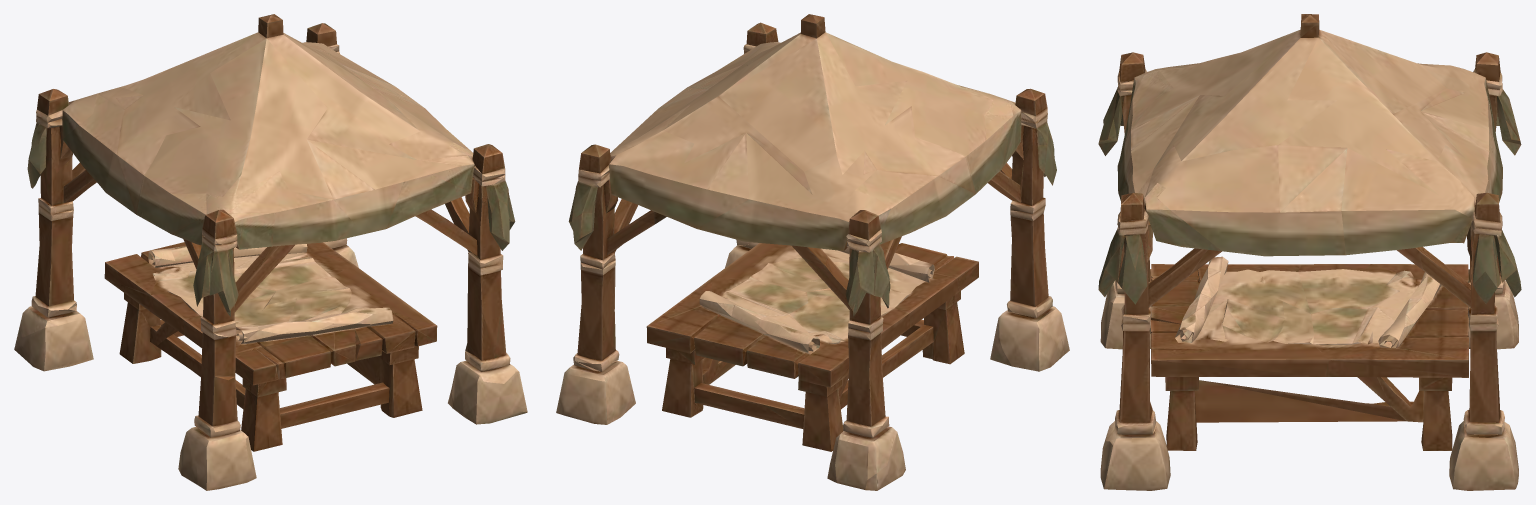
File: alpha-map-table.glb
3 renders of one model, left to right at view 1: azimuth 30°, elevation 25°; view 2: azimuth 150°, elevation 25°; view 3: azimuth 270°, elevation 25°, orthographic. The views are drawn at different scales.
Size of the model in its own units: 1.77 by 1.9 by 1.86.
1 material, 1 textured.
